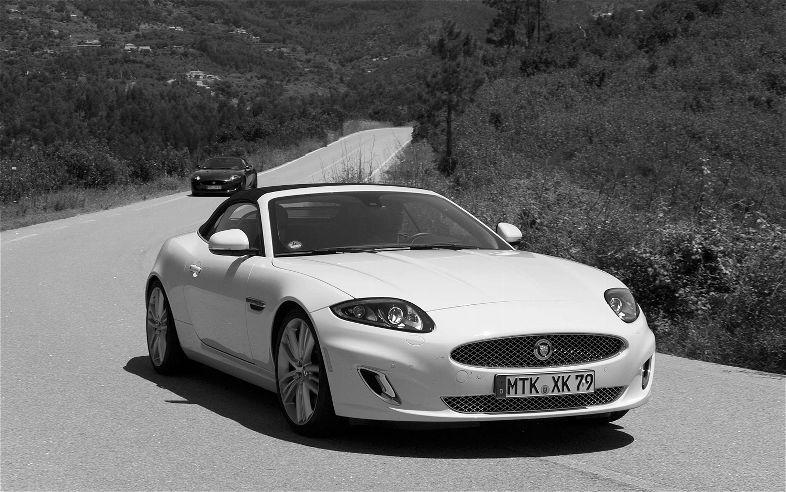car: (145, 182, 659, 440)
